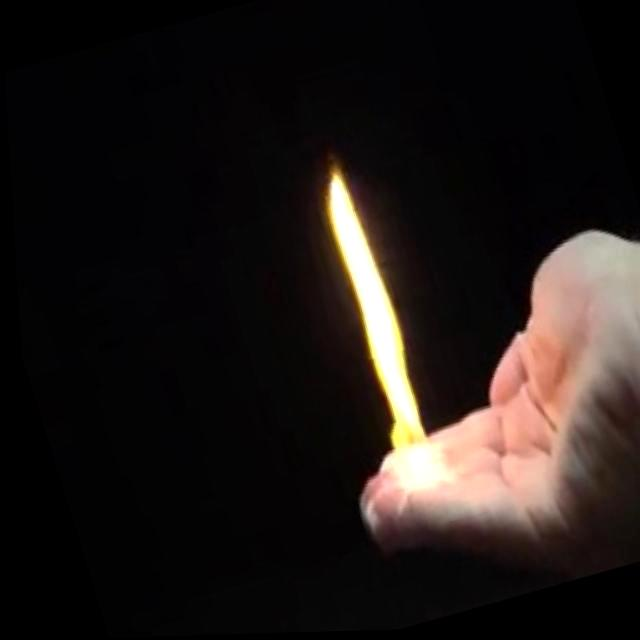fire: (326, 259, 454, 513)
